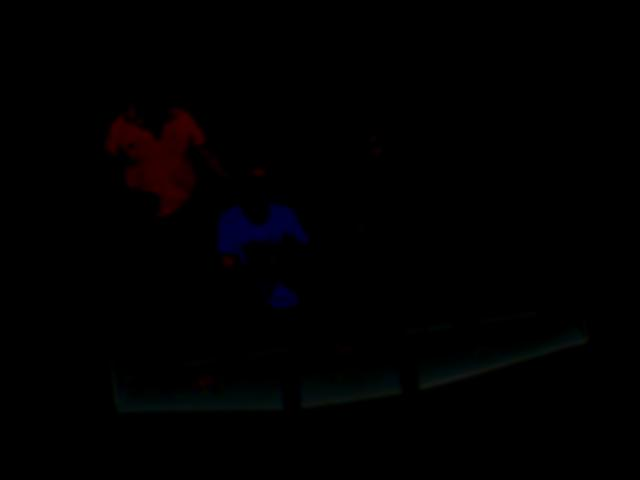iha: (94, 177, 616, 480)
